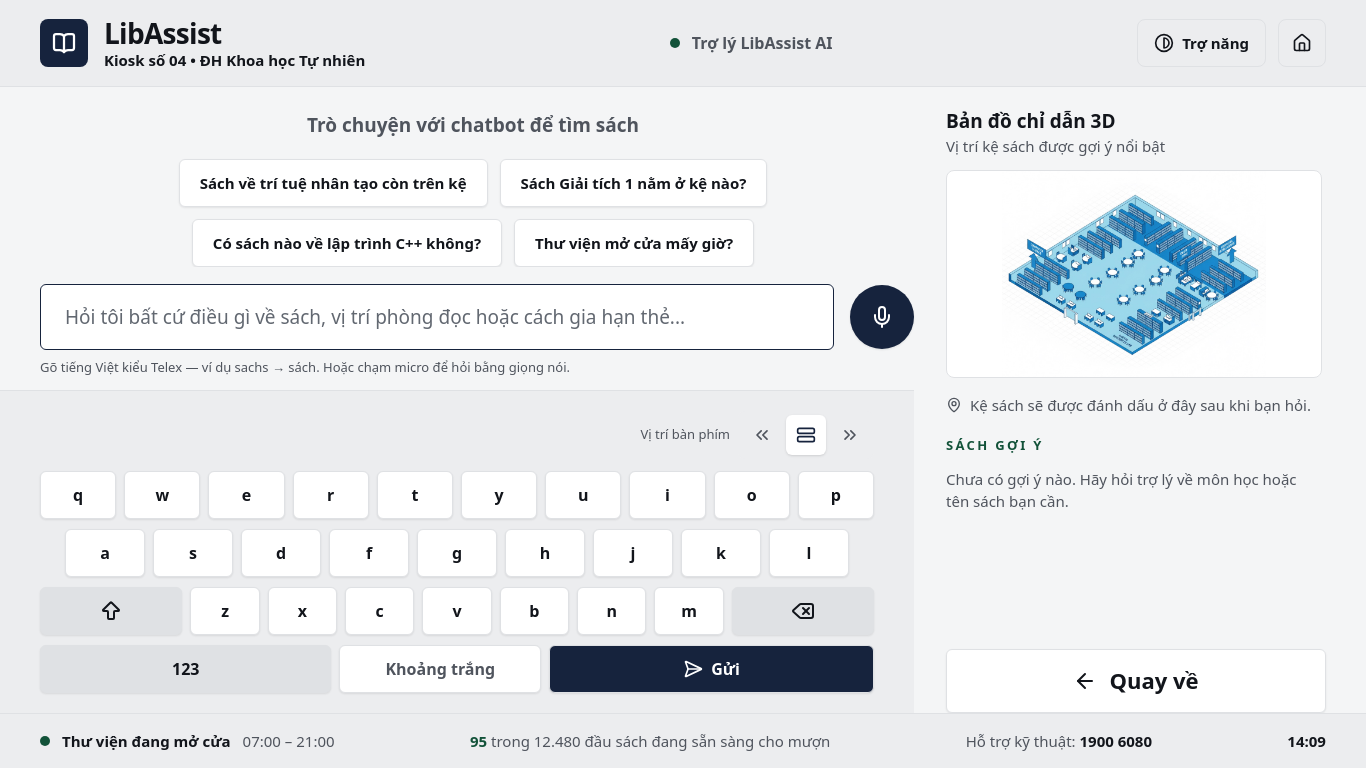
AI chat — the suggestion panel › marks the answered shelves on the floor map legend
(page scrolled)
Expected: the text "Kệ sách sẽ được đánh dấu ở đây sau khi bạn hỏi." is shown, [946,394,1322,416]
Click the button "Sách Giải tích 1 nằm ở kệ nào?" at (633, 183), box [500,159,767,207]
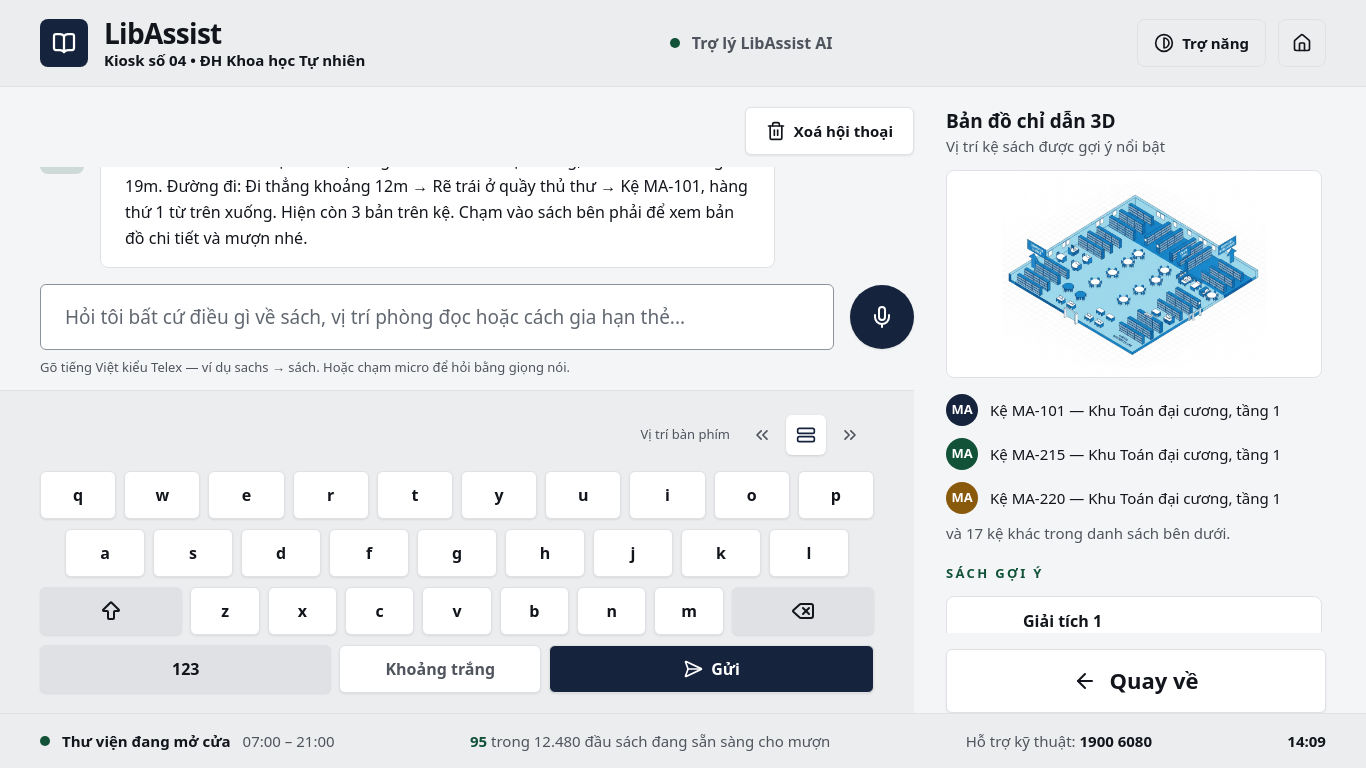
Result: the text "Kệ MA-101 — Khu Toán đại cương, tầng 1" is shown at [990,398,1281,421]
